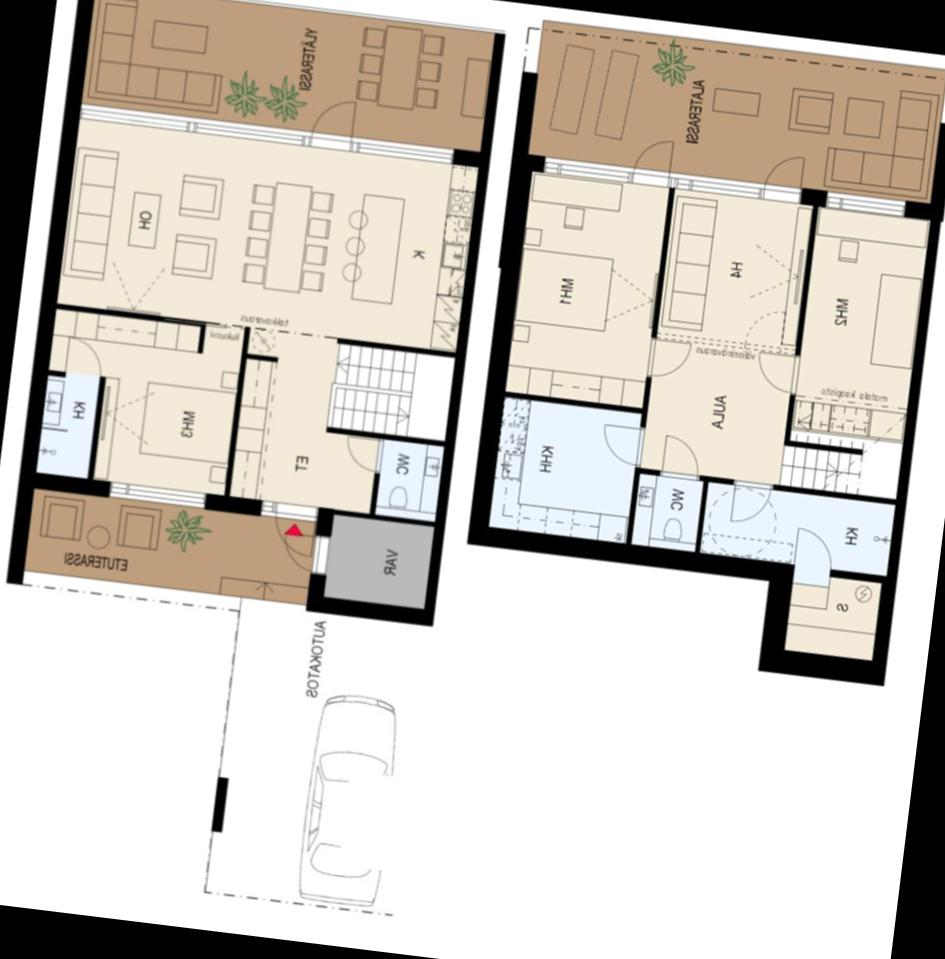door: (304, 91, 361, 152), (785, 523, 842, 580), (637, 331, 695, 386), (756, 148, 810, 206), (592, 419, 650, 473), (722, 474, 776, 525), (266, 498, 318, 550), (654, 430, 706, 482), (627, 136, 678, 189), (751, 345, 804, 396), (58, 334, 108, 384), (337, 429, 386, 475), (276, 531, 328, 572)
window: (96, 472, 212, 519), (184, 112, 307, 151), (350, 130, 460, 171), (70, 100, 195, 136), (664, 164, 764, 209), (819, 183, 915, 221), (533, 150, 630, 184)
